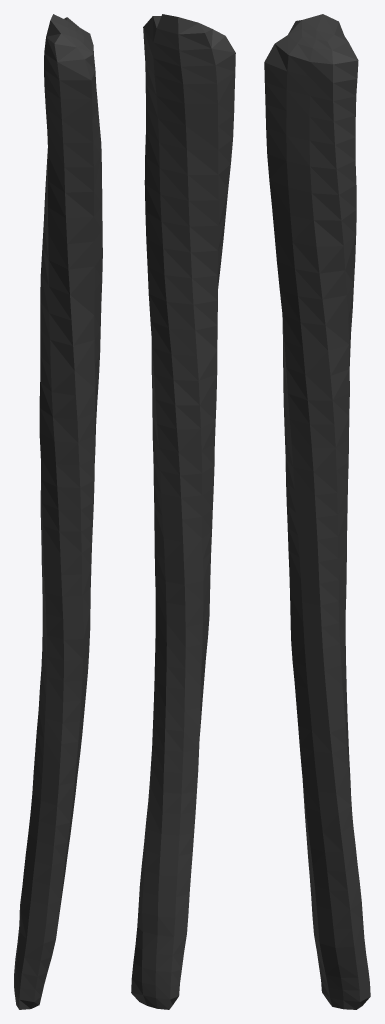
File: Distal_check_ligament.glb
The picture shows the model from 3 angles, left to right: view 1: azimuth 90°, elevation 25°; view 2: azimuth 150°, elevation 25°; view 3: azimuth 330°, elevation 25°; orthographic projection.
Parts seen in each view (by area): view 1: Distal_check_ligament; view 2: Distal_check_ligament; view 3: Distal_check_ligament.
Part boxes in pixels (x1,y1,x2,y2): Distal_check_ligament: [14, 14, 102, 1009]; Distal_check_ligament: [131, 14, 235, 1009]; Distal_check_ligament: [264, 14, 370, 1009].
Size of the model in its own units: 3.12 by 35.8 by 2.92.
1 material, 1 textured.
